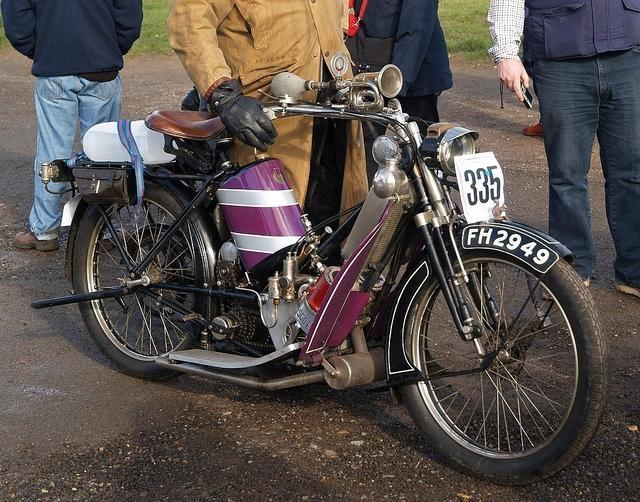motorcycle: (31, 53, 607, 487)
